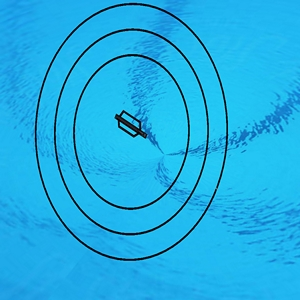circle: (30, 1, 232, 277)
submarine: (114, 111, 146, 137)
